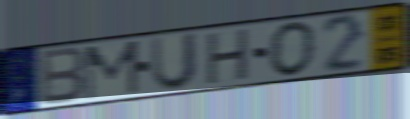2: (319, 12, 369, 77)
B: (38, 45, 89, 108)
H: (204, 26, 252, 88)
M: (82, 38, 141, 103)
O: (267, 20, 318, 79)
U: (148, 30, 200, 93)
